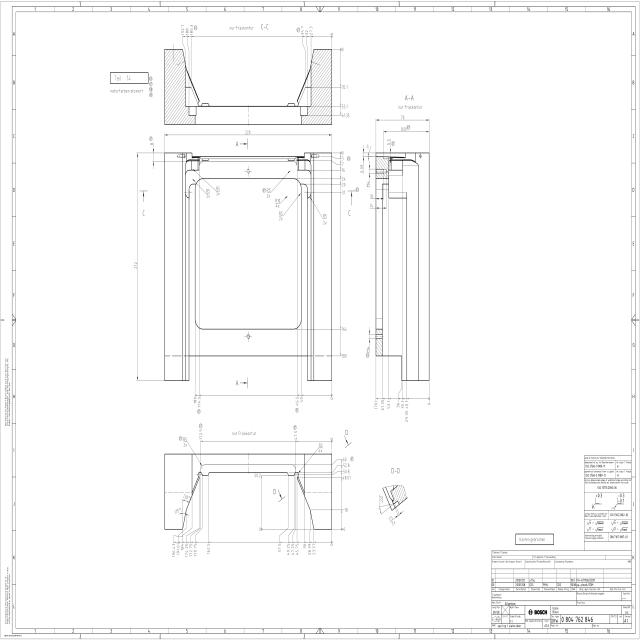dimension: (404, 399, 410, 425), (182, 492, 192, 503), (388, 514, 397, 526), (274, 196, 282, 209), (341, 111, 352, 120), (278, 208, 285, 222), (182, 434, 189, 448), (205, 186, 212, 199), (339, 350, 348, 360), (380, 397, 386, 412), (341, 474, 352, 482), (378, 494, 386, 505), (308, 24, 314, 38), (266, 185, 272, 199), (322, 212, 328, 226), (317, 441, 324, 453), (399, 124, 408, 133), (339, 323, 348, 332), (341, 467, 350, 476), (173, 506, 182, 515), (338, 44, 346, 54), (339, 83, 349, 91), (184, 542, 189, 558), (193, 543, 198, 559), (215, 184, 221, 197), (294, 394, 300, 407), (197, 393, 202, 408), (171, 543, 176, 558), (340, 102, 349, 110), (244, 128, 252, 137), (386, 398, 392, 410), (341, 461, 350, 469), (206, 542, 211, 556), (307, 542, 312, 556), (373, 399, 379, 410), (277, 542, 282, 555), (286, 543, 291, 556), (295, 543, 300, 556), (181, 22, 185, 38), (254, 471, 262, 479), (189, 543, 193, 559), (426, 396, 432, 406), (198, 428, 203, 440), (300, 24, 304, 38), (340, 174, 347, 182), (340, 188, 347, 196), (176, 542, 180, 556), (312, 542, 316, 556), (400, 113, 406, 122), (360, 162, 364, 175), (291, 543, 295, 556), (185, 27, 190, 37), (369, 200, 374, 210), (133, 260, 138, 270), (293, 430, 298, 440), (180, 542, 185, 552), (340, 166, 347, 173), (340, 181, 347, 188), (342, 455, 348, 463), (329, 539, 335, 547), (343, 505, 349, 513), (329, 30, 334, 39), (329, 392, 334, 401), (397, 400, 402, 409), (401, 400, 406, 409), (300, 393, 304, 404), (190, 24, 193, 38), (387, 137, 391, 147), (369, 192, 374, 200), (193, 394, 197, 404), (304, 29, 308, 38), (339, 149, 345, 155), (366, 142, 371, 149), (340, 154, 345, 161), (366, 181, 370, 189), (366, 346, 370, 354), (303, 543, 307, 551), (342, 526, 346, 534), (149, 141, 154, 147), (340, 161, 345, 166), (330, 436, 334, 442)
